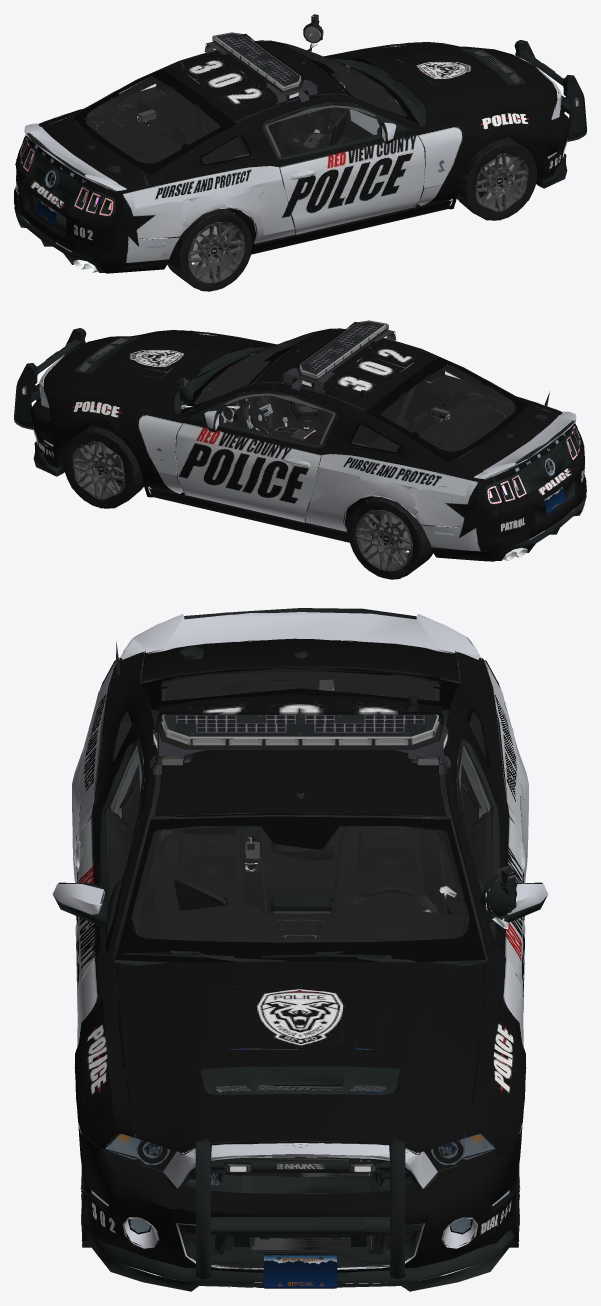
Rendered from yxxb_2.glb.
3 views of the same model, one above another, from view 1: azimuth 30°, elevation 25°; view 2: azimuth 150°, elevation 25°; view 3: azimuth 270°, elevation 25° (orthographic). The views are drawn at different scales.
Parts seen in each view (by area): view 1: COP:M_Tire_Highcar_ford_shelbygt500_2013_enforcer_Mesh_lod0_; view 2: COP:M_Tire_Highcar_ford_shelbygt500_2013_enforcer_Mesh_lod0_; view 3: COP:M_Tire_Highcar_ford_shelbygt500_2013_enforcer_Mesh_lod0_.
Boxes of the visible parts, <box> form: COP:M_Tire_Highcar_ford_shelbygt500_2013_enforcer_Mesh_lod0_: <box>14,14,586,291</box>; COP:M_Tire_Highcar_ford_shelbygt500_2013_enforcer_Mesh_lod0_: <box>14,320,586,579</box>; COP:M_Tire_Highcar_ford_shelbygt500_2013_enforcer_Mesh_lod0_: <box>52,608,548,1291</box>.
Size of the model in its own units: 4.73 by 1.45 by 1.94.
Materials: 20 (18 with a texture image).
